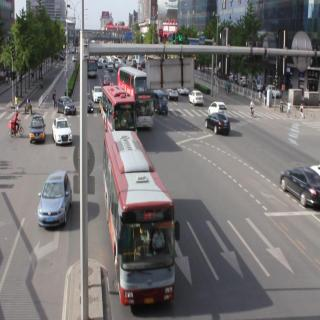BigCar: (101, 130, 177, 313), (118, 66, 158, 125), (100, 81, 132, 132)
Car: (281, 162, 320, 218), (48, 167, 72, 238), (29, 104, 47, 150), (52, 110, 72, 150), (56, 91, 78, 118), (205, 117, 234, 136), (209, 98, 228, 115), (156, 95, 171, 112), (192, 90, 205, 109), (93, 81, 102, 104)
